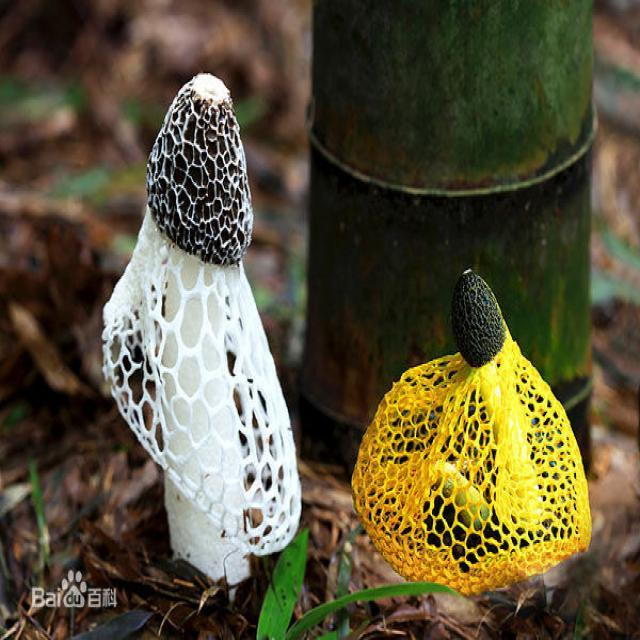Dictyophora indusiate: (107, 75, 301, 578), (353, 265, 593, 580)
